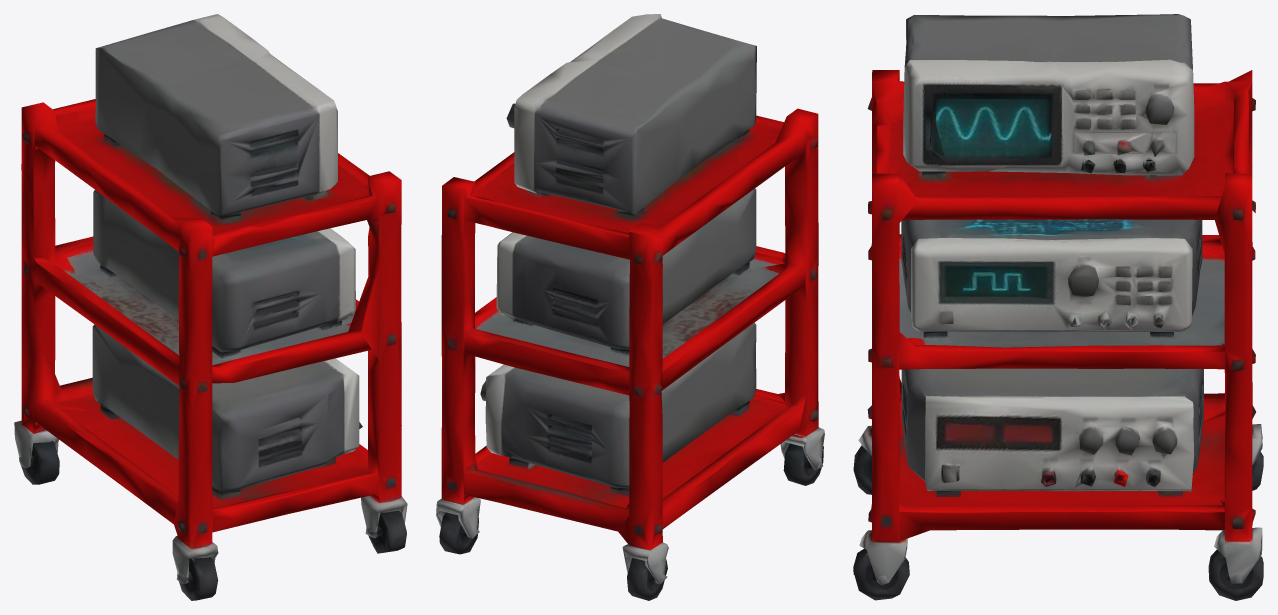
File: labCart.glb
3 views of the same model, side by side, from view 1: azimuth 30°, elevation 25°; view 2: azimuth 150°, elevation 25°; view 3: azimuth 270°, elevation 25° (orthographic). The views are drawn at different scales.
Parts seen in each view (by area): view 1: tripo_node_99555b77-4de4-4606-b177-9623c6754884; view 2: tripo_node_99555b77-4de4-4606-b177-9623c6754884; view 3: tripo_node_99555b77-4de4-4606-b177-9623c6754884.
Boxes of the visible parts, x1=… form: tripo_node_99555b77-4de4-4606-b177-9623c6754884: x1=14, y1=14, x2=407, y2=600; tripo_node_99555b77-4de4-4606-b177-9623c6754884: x1=436, y1=14, x2=824, y2=600; tripo_node_99555b77-4de4-4606-b177-9623c6754884: x1=853, y1=14, x2=1263, y2=600.
Bounding box in the file's own units: 0.5208 × 1 × 0.7354.
1 material, 1 textured.
